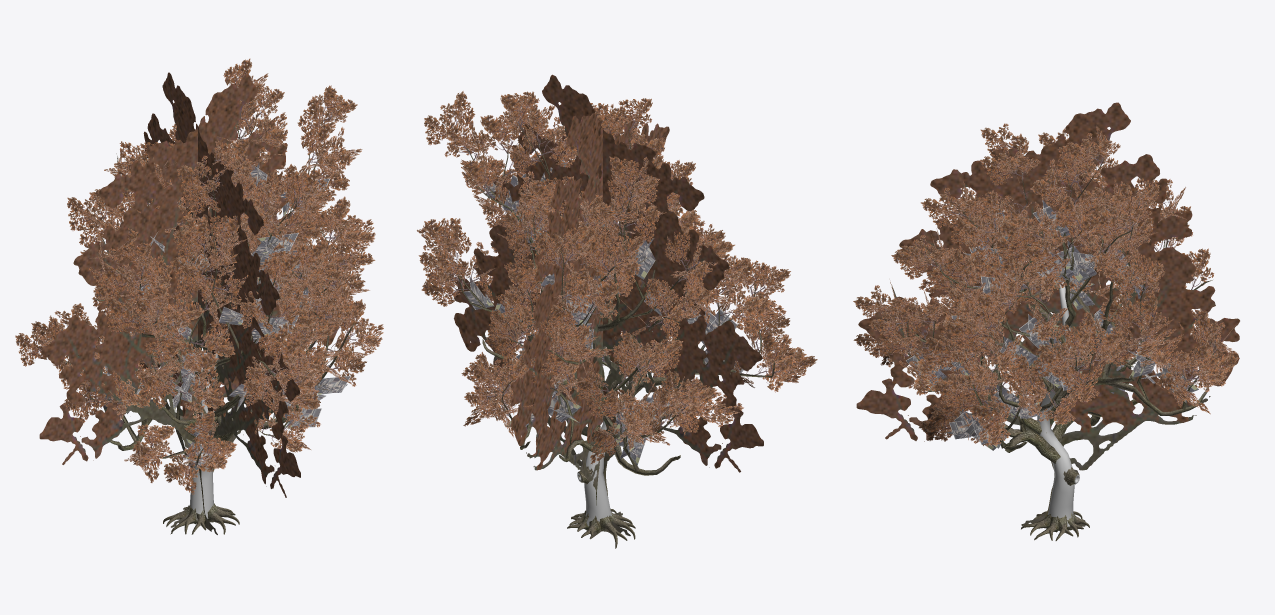
File: Tree-Oak5C.fbx
3 renders of one model, left to right at view 1: azimuth 30°, elevation 25°; view 2: azimuth 150°, elevation 25°; view 3: azimuth 270°, elevation 25°, orthographic. The views are drawn at different scales.
Visible parts, largest first — view 1: Tree-Oak5C_LOD0, Billboard-Oak5C; view 2: Tree-Oak5C_LOD0, Billboard-Oak5C; view 3: Tree-Oak5C_LOD0, Billboard-Oak5C.
Boxes of the visible parts, bbox=[...] form: Tree-Oak5C_LOD0: bbox=[15, 58, 383, 534]; Billboard-Oak5C: bbox=[39, 72, 343, 534]; Tree-Oak5C_LOD0: bbox=[417, 91, 817, 548]; Billboard-Oak5C: bbox=[454, 74, 763, 539]; Tree-Oak5C_LOD0: bbox=[853, 123, 1238, 540]; Billboard-Oak5C: bbox=[856, 102, 1239, 526].
Size of what is drawn, in the model's own units: 2763 by 3401 by 2886.
